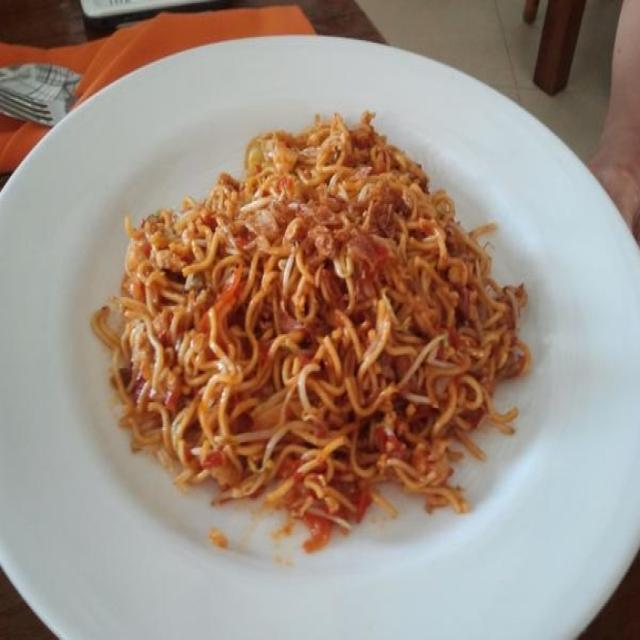面条主食: (31, 55, 629, 608)
